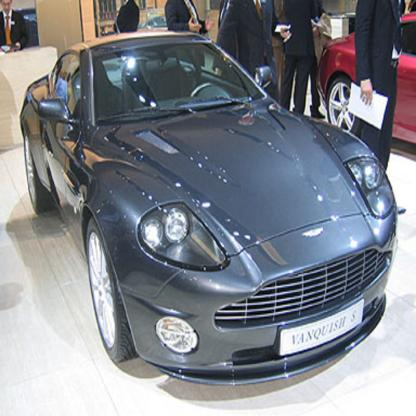Car: (20, 33, 407, 388), (316, 13, 416, 146)
